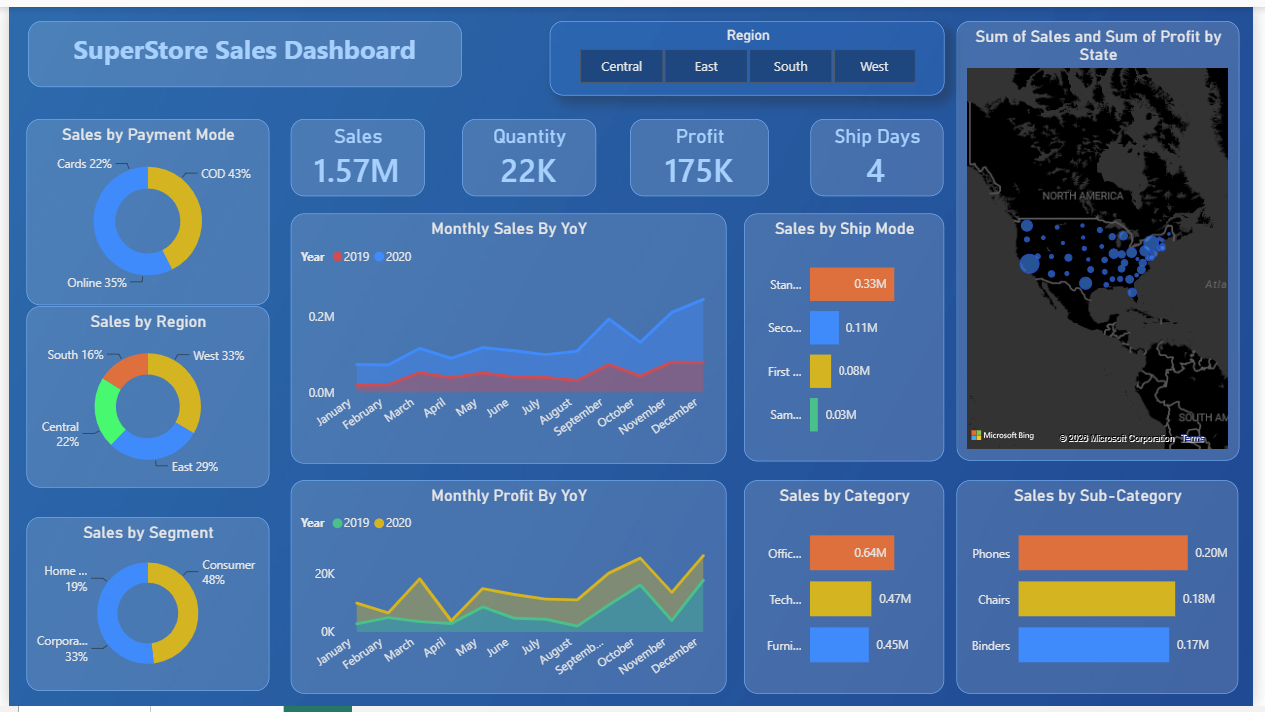

Layout of this report page (visuals, bound fields, positions):
{"tool":"powerbi","page":{"name":"Page 1","canvas":[1280,720],"ordinal":0},"visuals":[{"type":"clusteredBarChart","title":"Sales by Category","fields":{"Category":["SuperStore_Sales_Dataset.Category"],"Y":["Sum(SuperStore_Sales_Dataset.Sales)"]},"box":[755.2,487.2,207.1,219.3],"z":0},{"type":"clusteredBarChart","title":"Sales by Sub-Category","fields":{"Category":["SuperStore_Sales_Dataset.Sub-Category"],"Y":["Sum(SuperStore_Sales_Dataset.Sales)"]},"box":[974.5,487.2,289.9,219.3],"z":1000},{"type":"clusteredBarChart","title":"Sales by Ship Mode","fields":{"Category":["SuperStore_Sales_Dataset.Ship Mode"],"Y":["Sum(SuperStore_Sales_Dataset.Sales)"]},"box":[755.2,212,207.1,254.6],"z":2000},{"type":"stackedAreaChart","title":"Monthly Sales By YoY","fields":{"Category":["SuperStore_Sales_Dataset.Order Date.Variation.Date Hierarchy.Month","SuperStore_Sales_Dataset.Order Date.Variation.Date Hierarchy.Day"],"Y":["Sum(SuperStore_Sales_Dataset.Sales)"],"Series":["SuperStore_Sales_Dataset.Order Date.Variation.Date Hierarchy.Year"]},"box":[289.9,212,448.3,257],"z":3000},{"type":"stackedAreaChart","title":"Monthly Profit By YoY","fields":{"Category":["SuperStore_Sales_Dataset.Order Date.Variation.Date Hierarchy.Month","SuperStore_Sales_Dataset.Order Date.Variation.Date Hierarchy.Day"],"Series":["SuperStore_Sales_Dataset.Order Date.Variation.Date Hierarchy.Year"],"Y":["Sum(SuperStore_Sales_Dataset.Profit)"]},"box":[289.9,487.2,448.3,219.3],"z":4000},{"type":"map","fields":{"Category":["SuperStore_Sales_Dataset.State"],"Size":["Sum(SuperStore_Sales_Dataset.Sales)"]},"box":[974.5,14.6,291.1,451.9],"z":5000},{"type":"donutChart","title":"Sales by Segment","fields":{"Category":["SuperStore_Sales_Dataset.Segment"],"Y":["Sum(SuperStore_Sales_Dataset.Sales)"]},"box":[18.3,526.2,249.7,179.1],"z":6000},{"type":"donutChart","title":"Sales by Payment Mode","fields":{"Category":["SuperStore_Sales_Dataset.Payment Mode"],"Y":["Sum(SuperStore_Sales_Dataset.Sales)"]},"box":[18.3,115.7,249.7,191.2],"z":7000},{"type":"slicer","title":"Region","fields":{"Values":["SuperStore_Sales_Dataset.Region"]},"box":[555.5,14.6,406.9,76.7],"z":8000},{"type":"textbox","box":[19.5,14.6,445.8,68.2],"z":9000},{"type":"cardVisual","title":"Sales","fields":{"Data":["Sum(SuperStore_Sales_Dataset.Sales)"]},"box":[289.9,115.7,137.6,79.2],"z":10000},{"type":"cardVisual","title":"Quantity","fields":{"Data":["Sum(SuperStore_Sales_Dataset.Quantity)"]},"box":[465.3,115.7,137.6,79.2],"z":11000},{"type":"cardVisual","title":"Profit","fields":{"Data":["Sum(SuperStore_Sales_Dataset.Profit)"]},"box":[639.5,115.7,142.5,79.2],"z":12000},{"type":"cardVisual","title":"Ship Days","fields":{"Data":["Avg(SuperStore_Sales_Dataset.AvgDelivery)"]},"box":[824.7,115.7,137.6,79.2],"z":13000},{"type":"donutChart","title":"Sales by Region","fields":{"Category":["SuperStore_Sales_Dataset.Region"],"Y":["Sum(SuperStore_Sales_Dataset.Sales)"]},"box":[18.3,307,249.7,187.6],"z":14000}]}

Visuals, with their boxes in screenshot pixels (x1, y1, x2, y2), scaled from the page's 1280x720 canvas onto the 1265x712 screenshot:
"Sales by Category" clusteredBarChart: locate(746, 482, 951, 699)
"Sales by Sub-Category" clusteredBarChart: locate(963, 482, 1250, 699)
"Sales by Ship Mode" clusteredBarChart: locate(746, 210, 951, 461)
"Monthly Sales By YoY" stackedAreaChart: locate(287, 210, 730, 464)
"Monthly Profit By YoY" stackedAreaChart: locate(287, 482, 730, 699)
map - SuperStore_Sales_Dataset.State x Sum(SuperStore_Sales_Dataset.Sales): locate(963, 14, 1251, 461)
"Sales by Segment" donutChart: locate(18, 520, 265, 697)
"Sales by Payment Mode" donutChart: locate(18, 114, 265, 303)
"Region" slicer: locate(549, 14, 951, 90)
textbox: locate(19, 14, 460, 82)
"Sales" cardVisual: locate(287, 114, 422, 193)
"Quantity" cardVisual: locate(460, 114, 596, 193)
"Profit" cardVisual: locate(632, 114, 773, 193)
"Ship Days" cardVisual: locate(815, 114, 951, 193)
"Sales by Region" donutChart: locate(18, 304, 265, 489)
